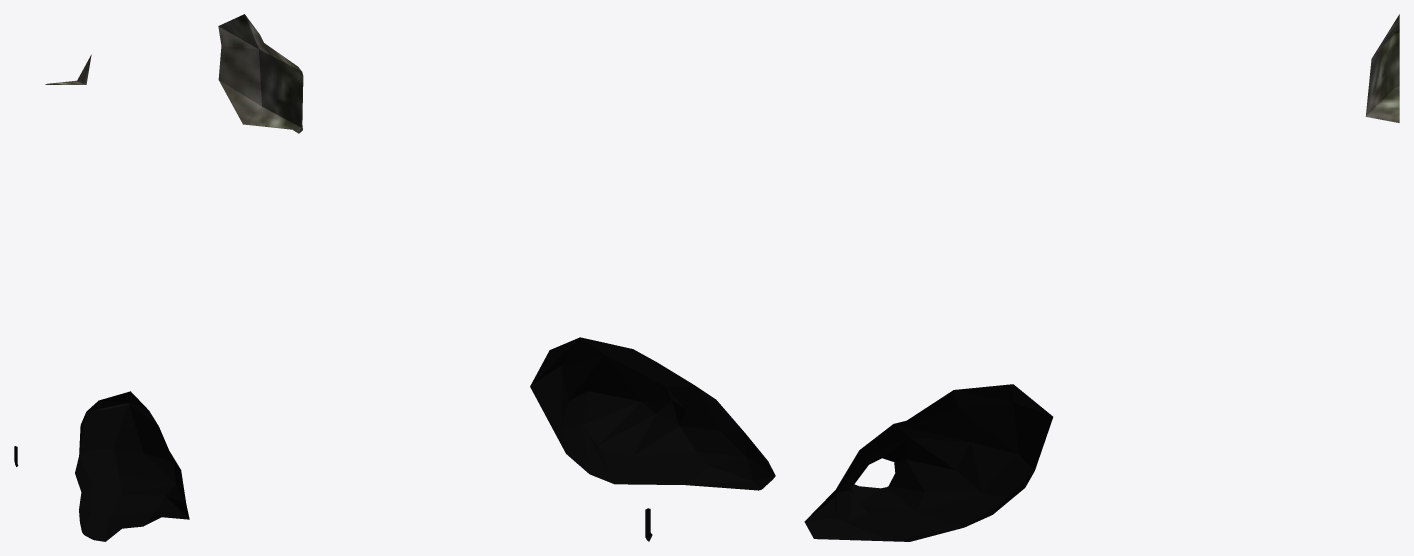
3 renders of one model, left to right at view 1: azimuth 30°, elevation 25°; view 2: azimuth 150°, elevation 25°; view 3: azimuth 270°, elevation 25°, orthographic. The views are drawn at different scales.
Size of the model in its own units: 1.62 by 3.43 by 3.08.
Materials: 1 (1 with a texture image).
